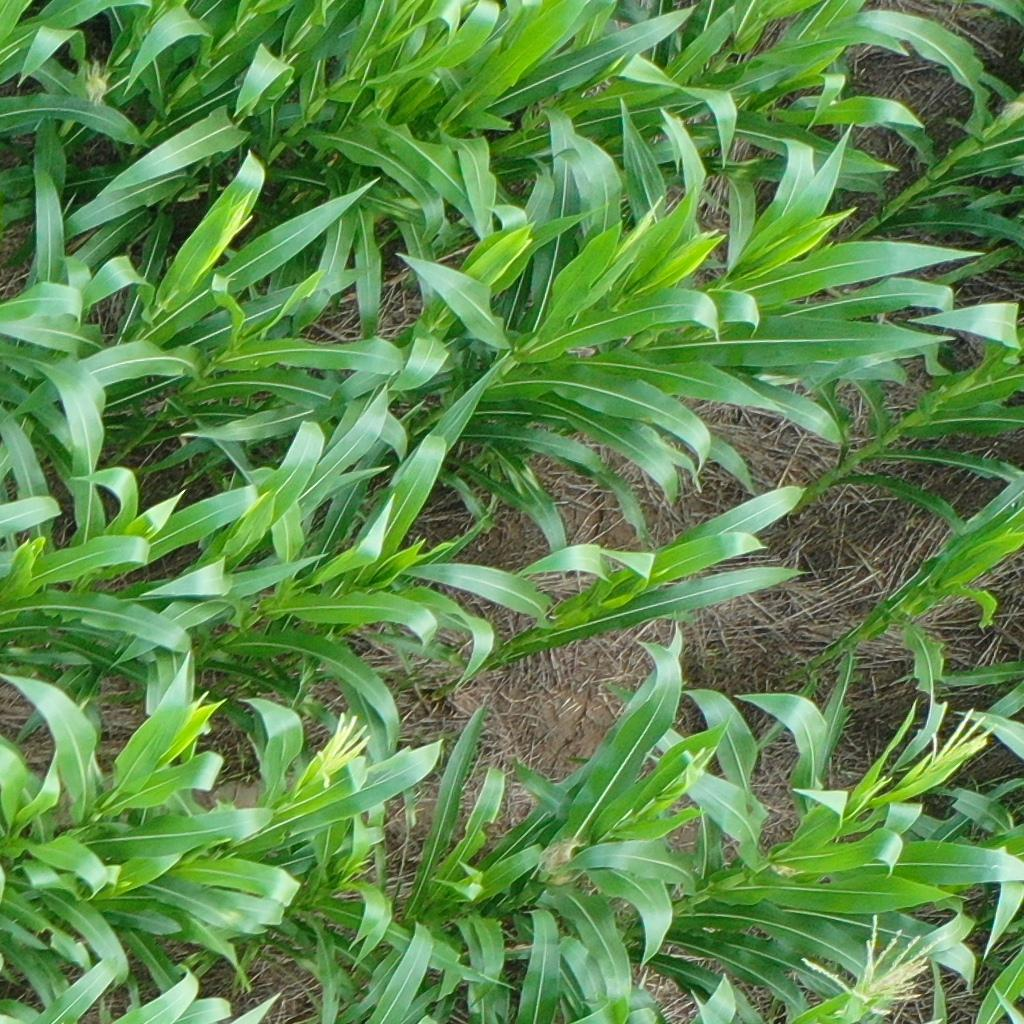Tassel: (797, 911, 933, 1021), (316, 709, 373, 788), (929, 705, 995, 763), (629, 192, 662, 244), (225, 198, 252, 248), (691, 226, 720, 242)
